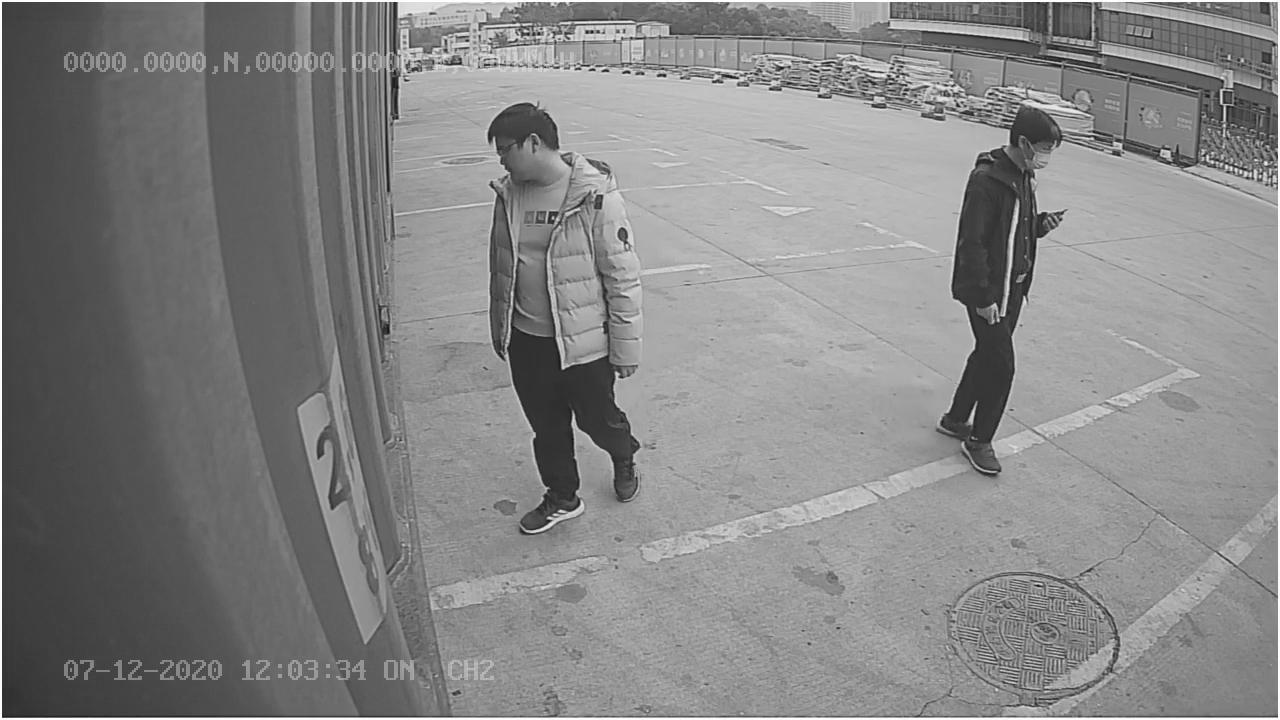person: (465, 95, 656, 530), (934, 90, 1066, 484)
